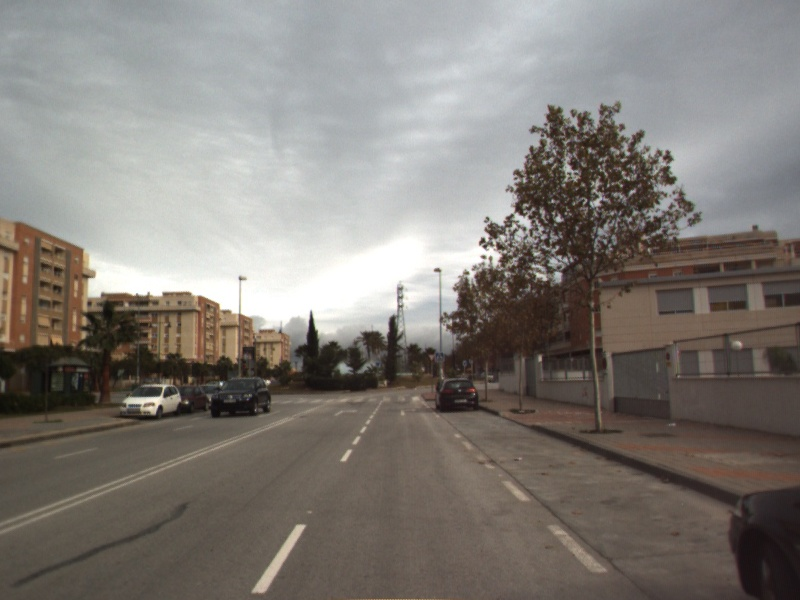RIGHT: (332, 407, 360, 418), (398, 405, 420, 417)
